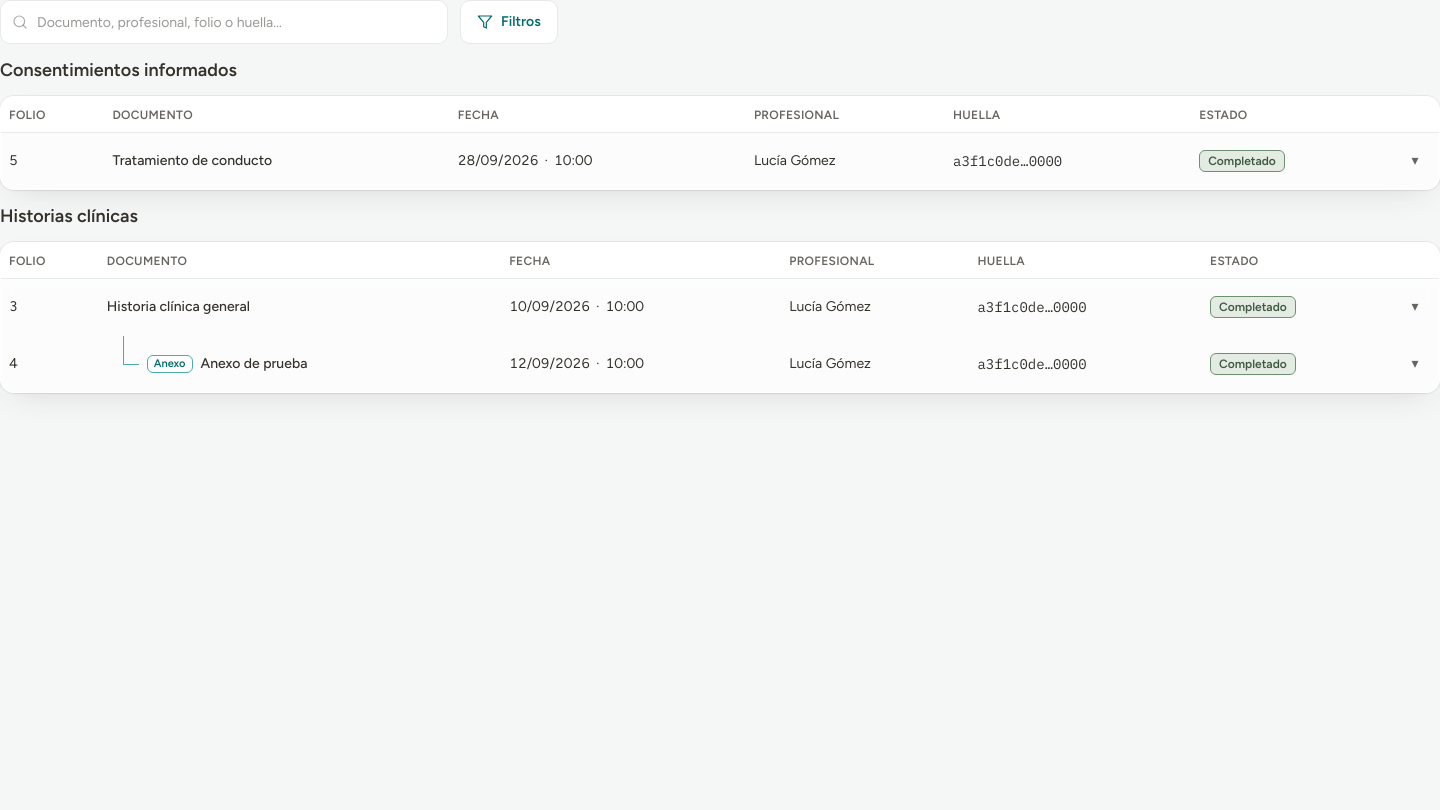
Scenario: RegistroDeDocumentos en dos tablas (5.6b) › los filtros valen para las dos tablas; la que se queda sin nada lo dice
Type "conducto" into the search field at (224, 22), box [0,0,448,44]
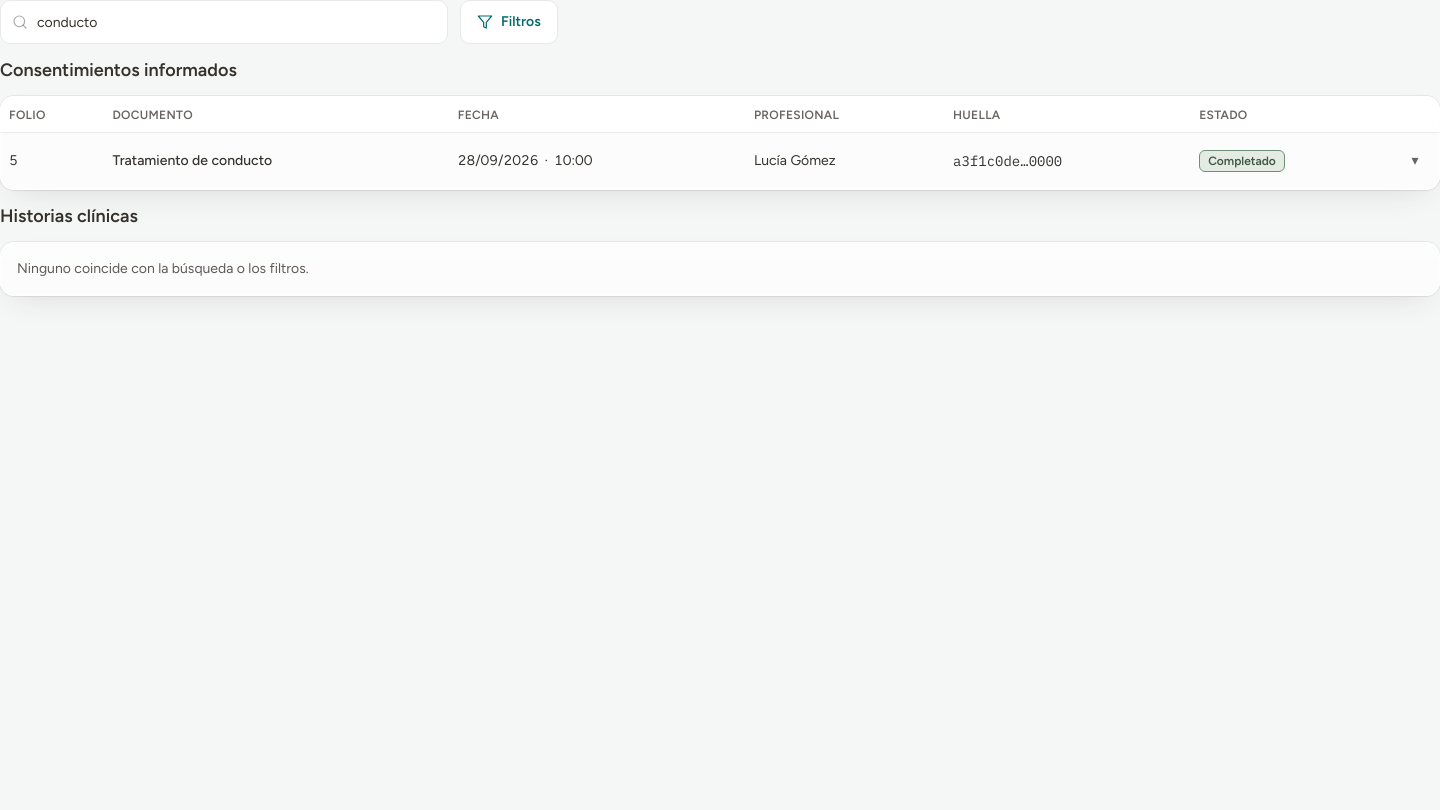
Check: the text "Ninguno coincide con la búsqueda o los filtros." is shown, box [0,242,1439,296]
Filtrar por el anexo: queda solo, sin su historia, y dice de cuál es.
Clear the search field at (224, 22), box [0,0,448,44]
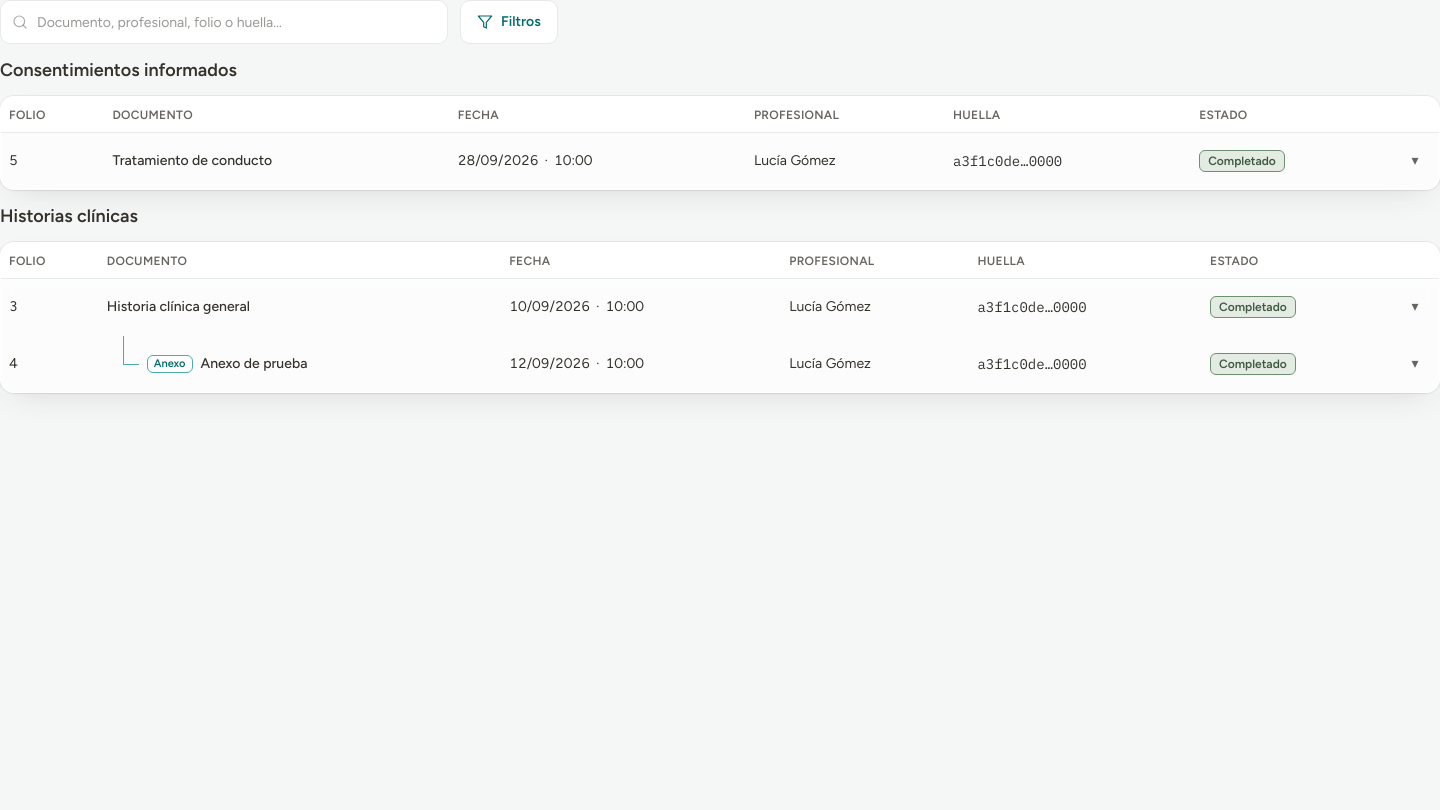
Click the button "Filtros" at (509, 22), box [460,0,558,44]
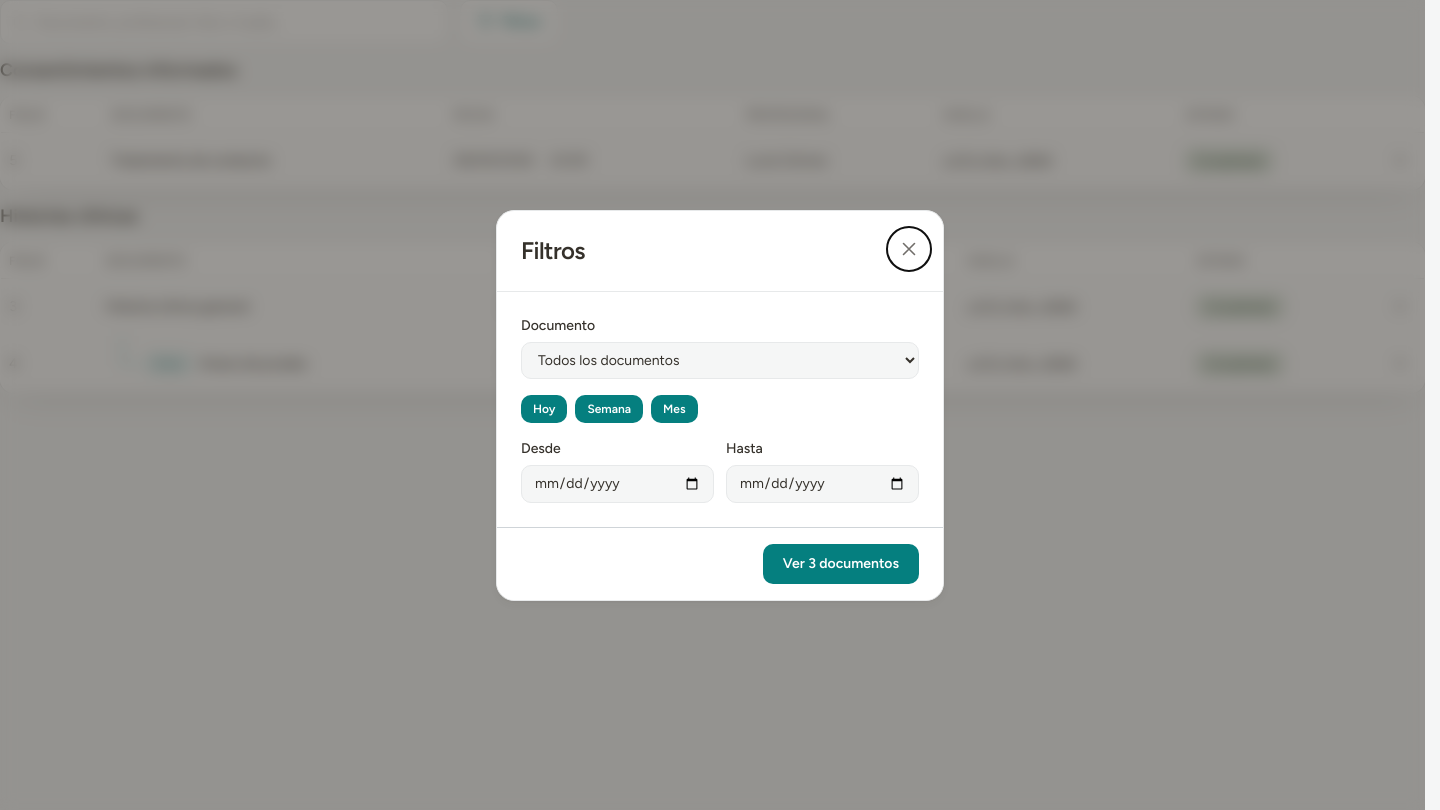
Select "Anexo de prueba" in the dropdown labelled "Documento" at (720, 360), box [521,342,919,378]
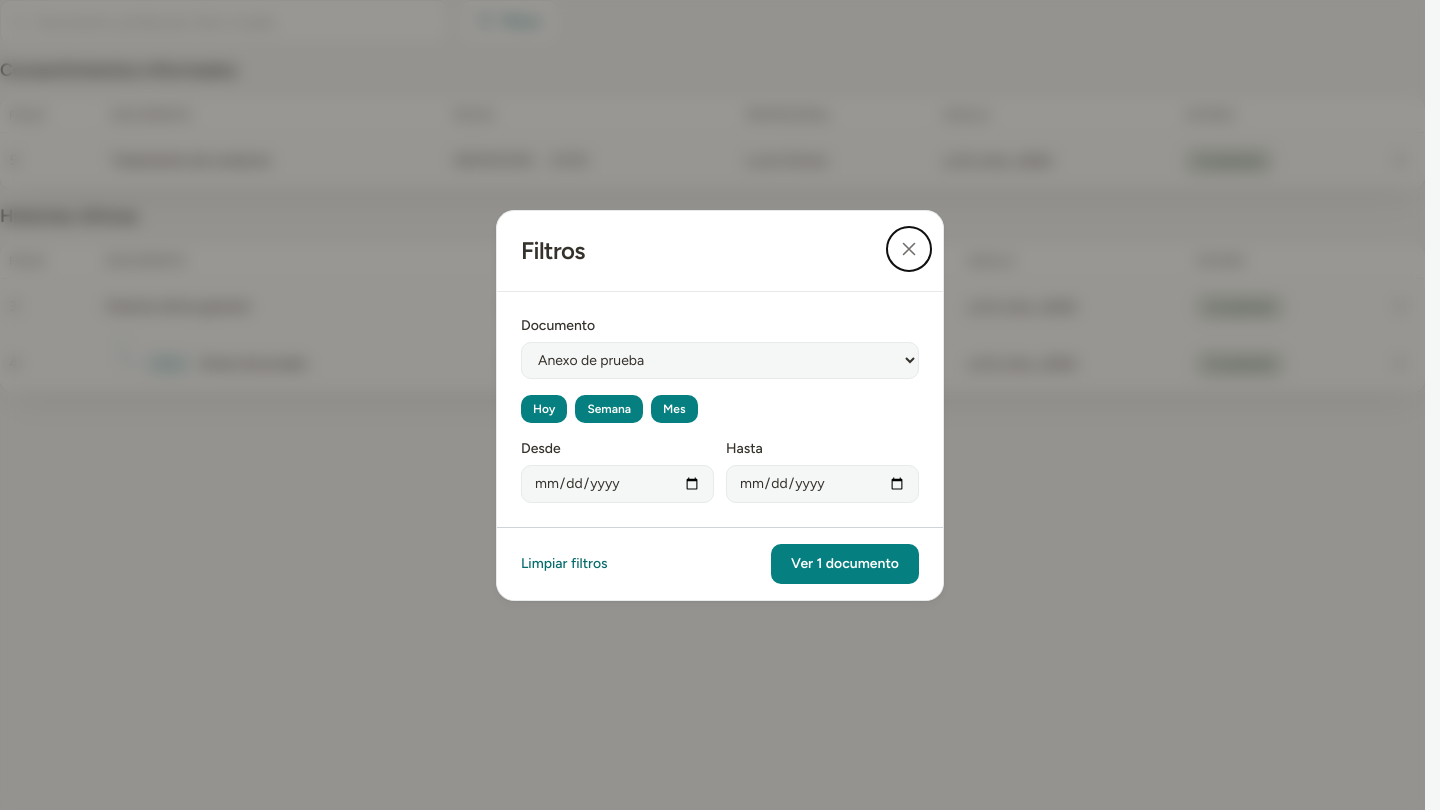
Click the button "Ver 1 documento" at (845, 564), box [771,544,919,584]
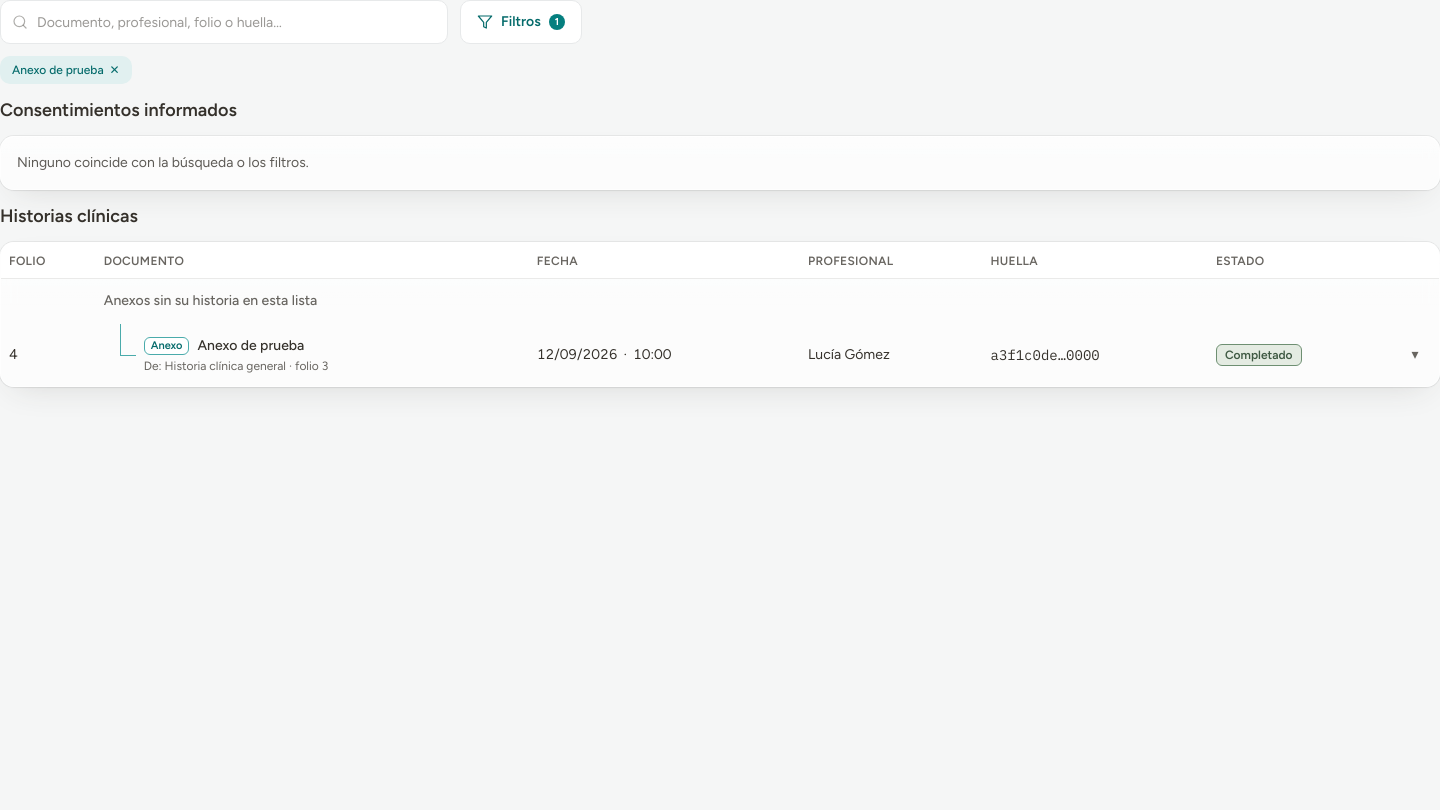
Check: the text "De: Historia clínica general · folio 3" is shown, box [144,359,328,373]
